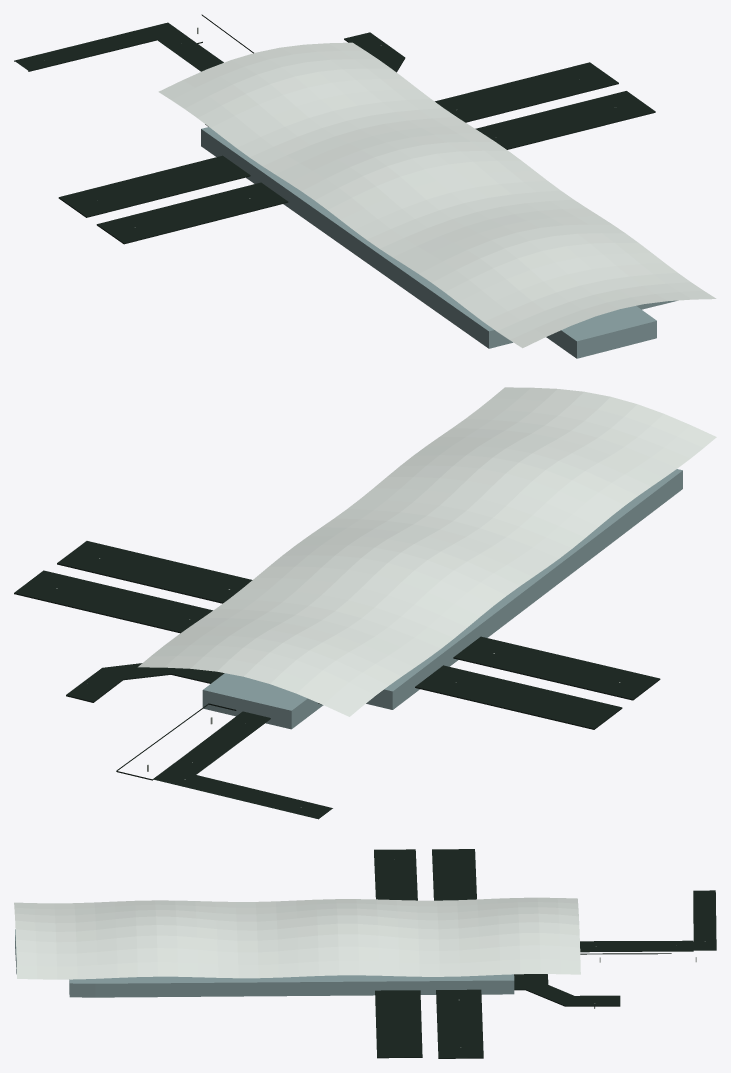
File: szbay-port-1.glb
3 views of the same model, one above another, from view 1: azimuth 30°, elevation 25°; view 2: azimuth 150°, elevation 25°; view 3: azimuth 270°, elevation 25° (orthographic). The views are drawn at different scales.
Parts seen in each view (by area): view 1: wave_roof, canopy, terminal_wall; view 2: wave_roof, canopy, terminal_wall; view 3: wave_roof, canopy, terminal_wall.
Boxes of the visible parts, left/top/right/bottom form: wave_roof: left=158, top=42, right=716, bottom=348; canopy: left=14, top=14, right=655, bottom=244; terminal_wall: left=201, top=127, right=677, bottom=358; wave_roof: left=138, top=387, right=716, bottom=716; canopy: left=14, top=541, right=660, bottom=819; terminal_wall: left=202, top=469, right=682, bottom=729; wave_roof: left=14, top=897, right=580, bottom=979; canopy: left=374, top=849, right=716, bottom=1058; terminal_wall: left=15, top=929, right=514, bottom=997.
Bounding box in the file's own units: 290 × 22.07 × 413.
